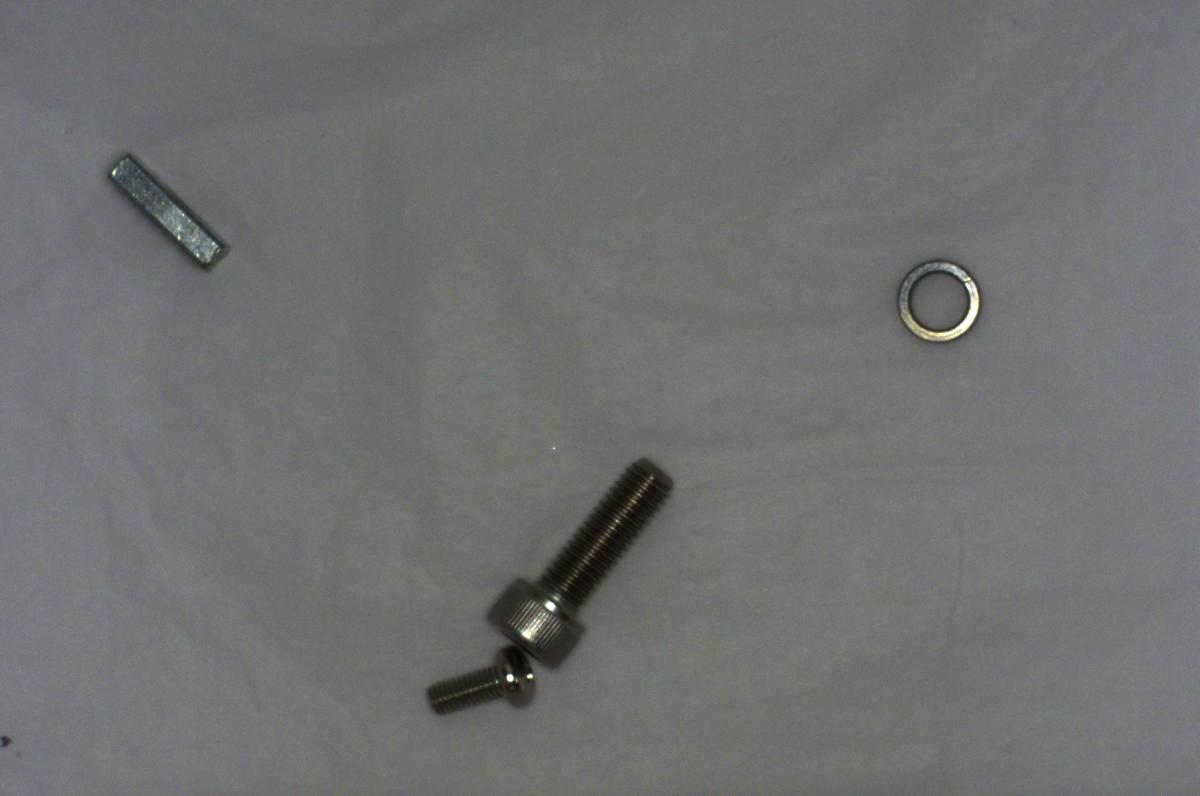Hexagon screw: (462, 456, 677, 672)
Rectangular nut: (101, 150, 225, 275)
Round head screw: (419, 640, 544, 720)
Spring washer: (880, 253, 990, 349)
